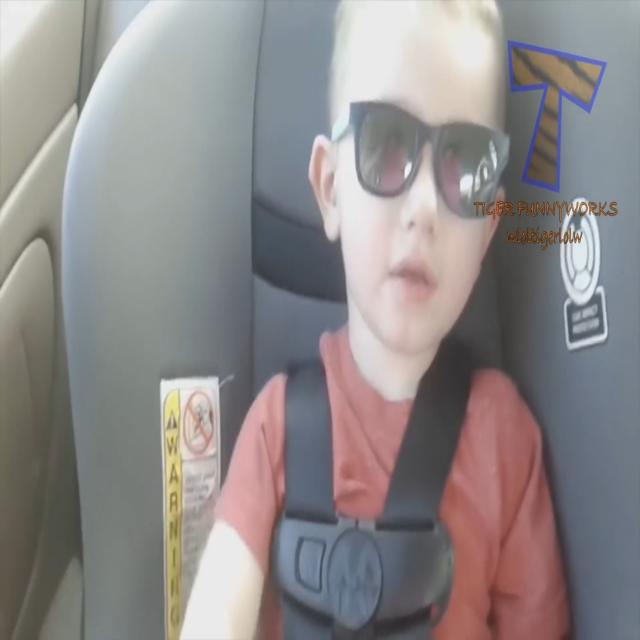safe: (314, 0, 512, 475)
